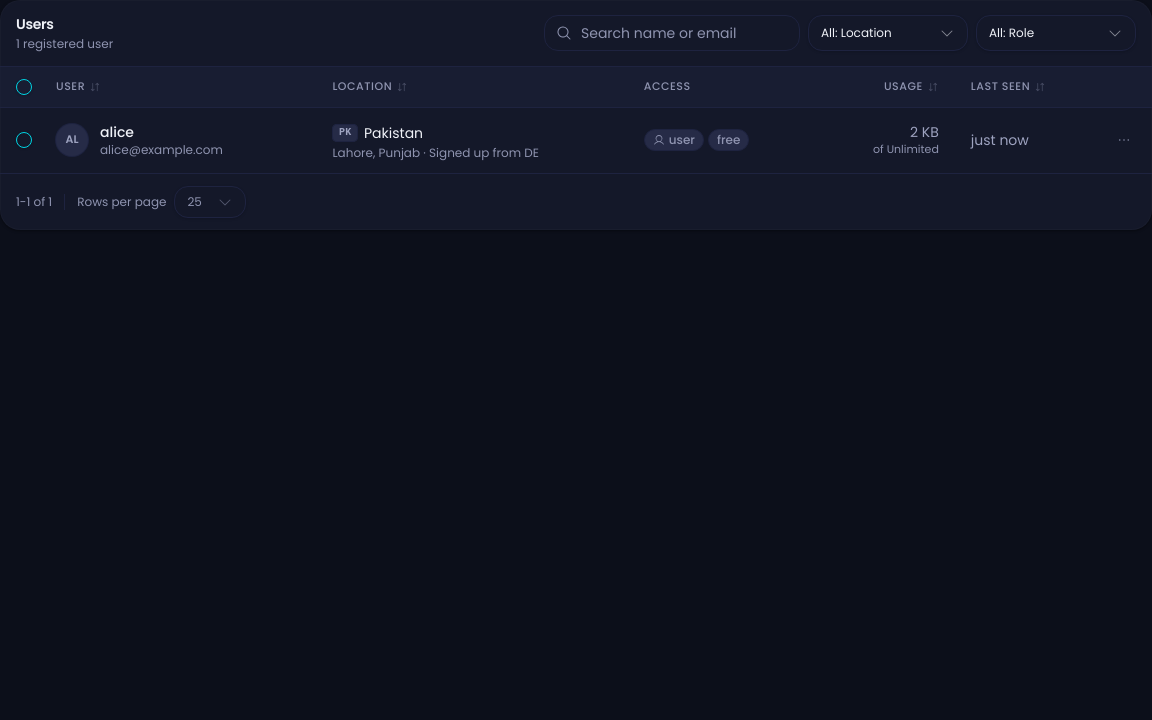
Scenario: UserTable › offers the user actions in a menu and confirms a delete by name
This screenshot has width=1152, height=720.
Press the mouse on the button named "Row actions" at x=1124, y=140, box [1108, 124, 1140, 156]
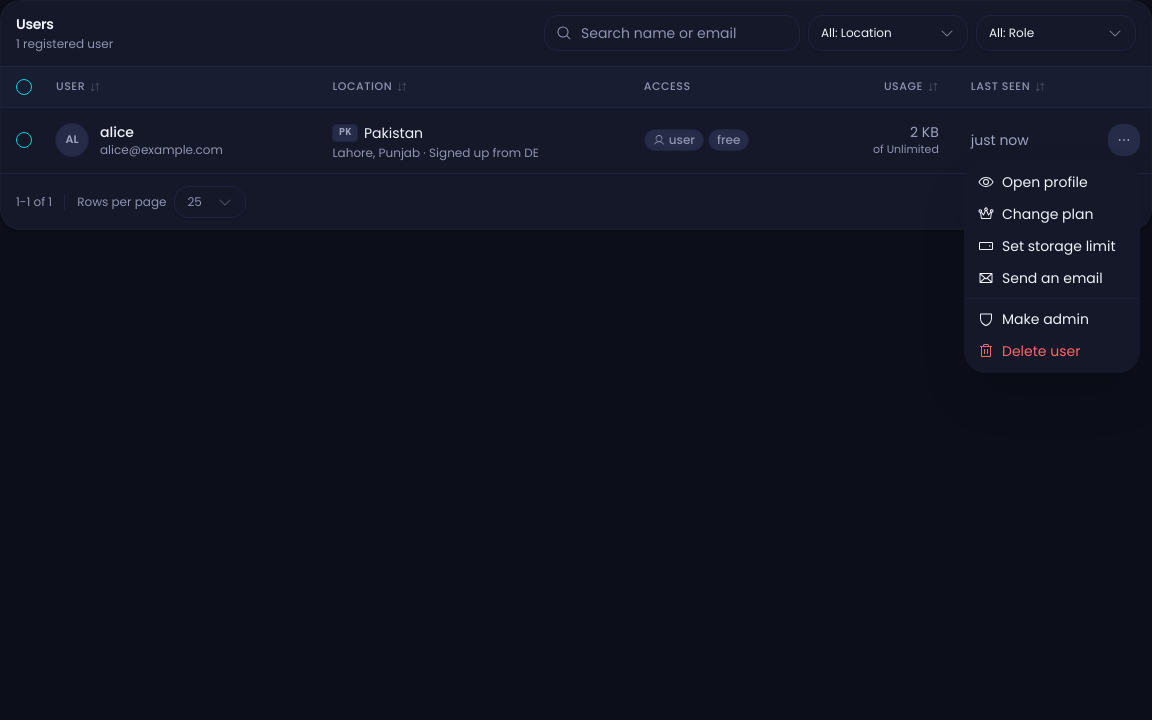
Expected: the menu item "Change plan" is shown, [978, 204, 1093, 224]
Click the menu item "Delete user" at x=1029, y=351, box [978, 341, 1080, 361]
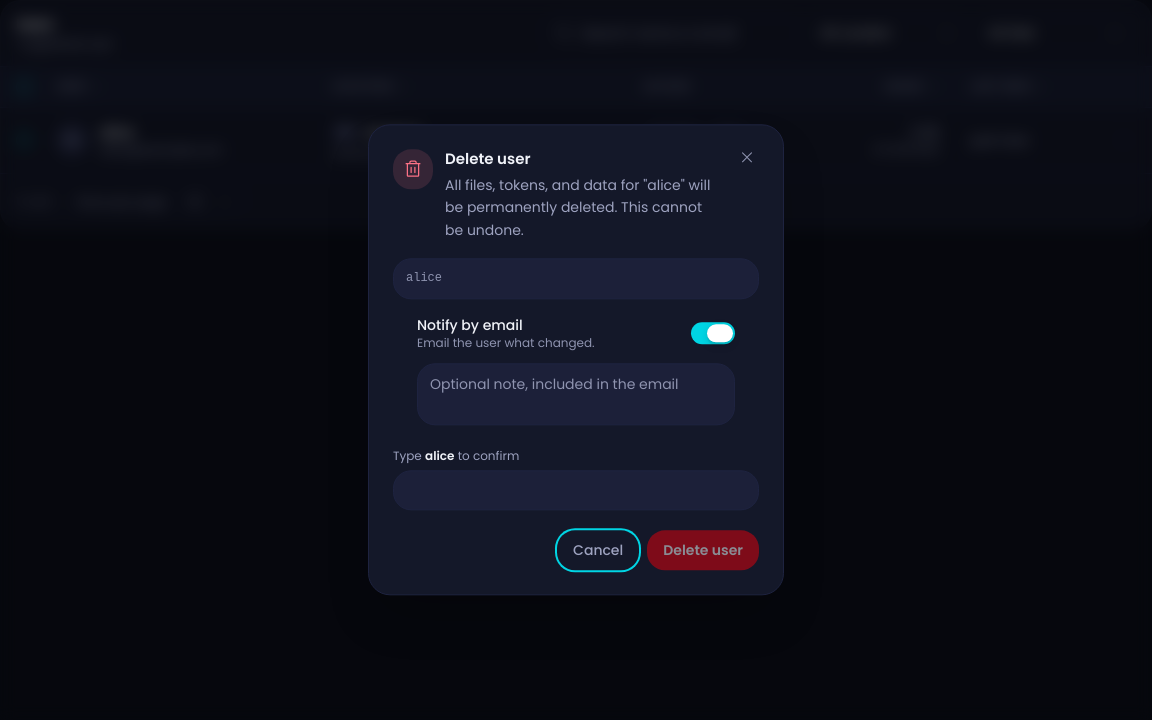
Expected: the text "permanently deleted" is shown, [445, 175, 710, 240]
